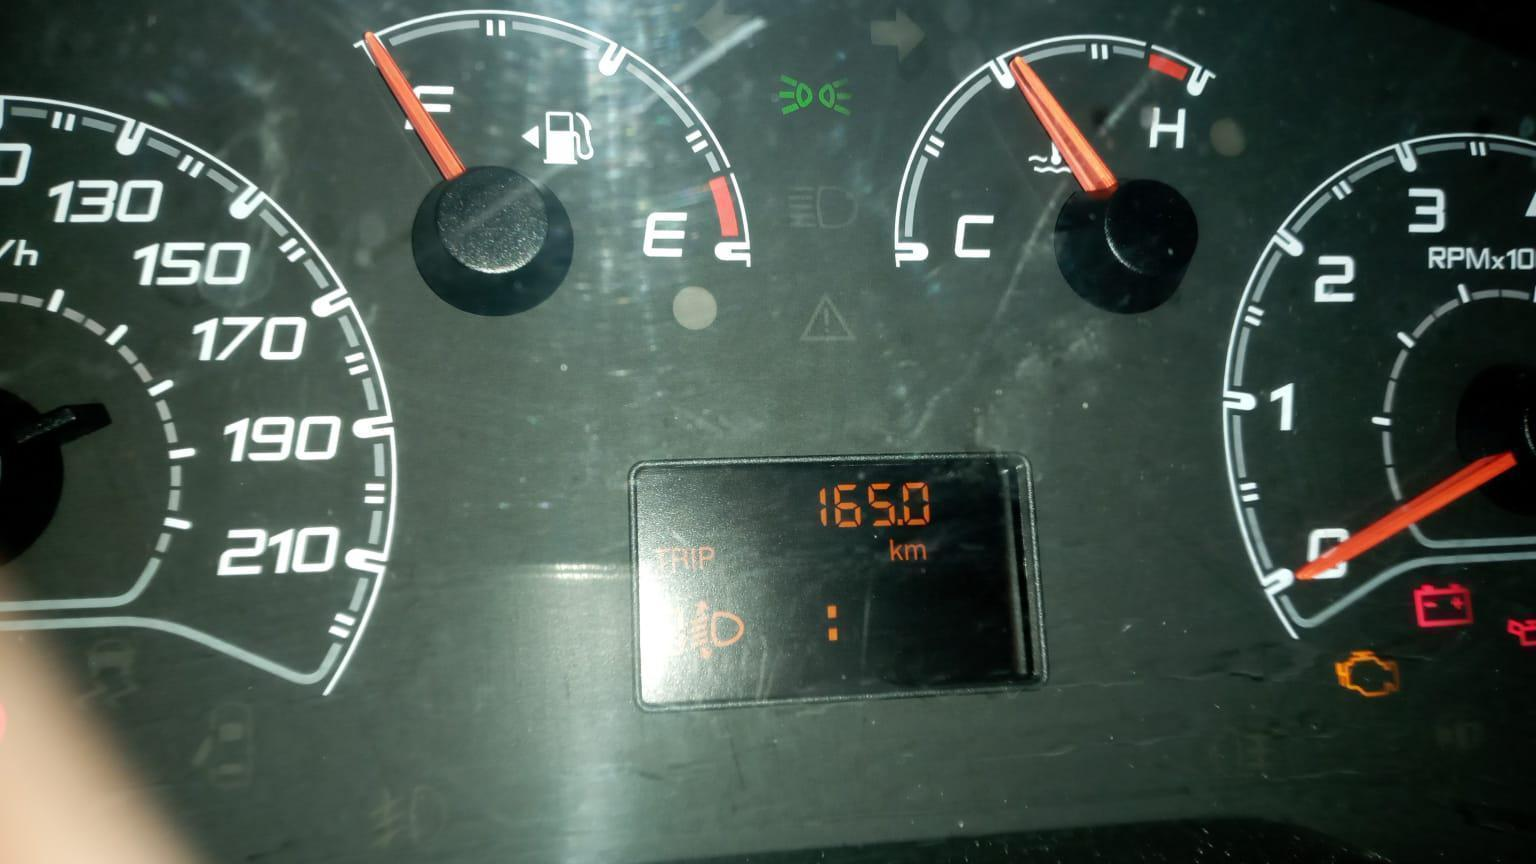,: (896, 518, 904, 527)
0: (901, 481, 932, 526)
1: (817, 486, 828, 527)
5: (866, 482, 896, 527)
6: (832, 483, 863, 527)
X: (824, 603, 840, 644), (652, 546, 671, 571), (697, 545, 715, 570), (671, 546, 689, 571), (904, 543, 927, 561), (888, 537, 903, 561), (689, 546, 697, 570)
odometer: (623, 448, 1051, 718)
